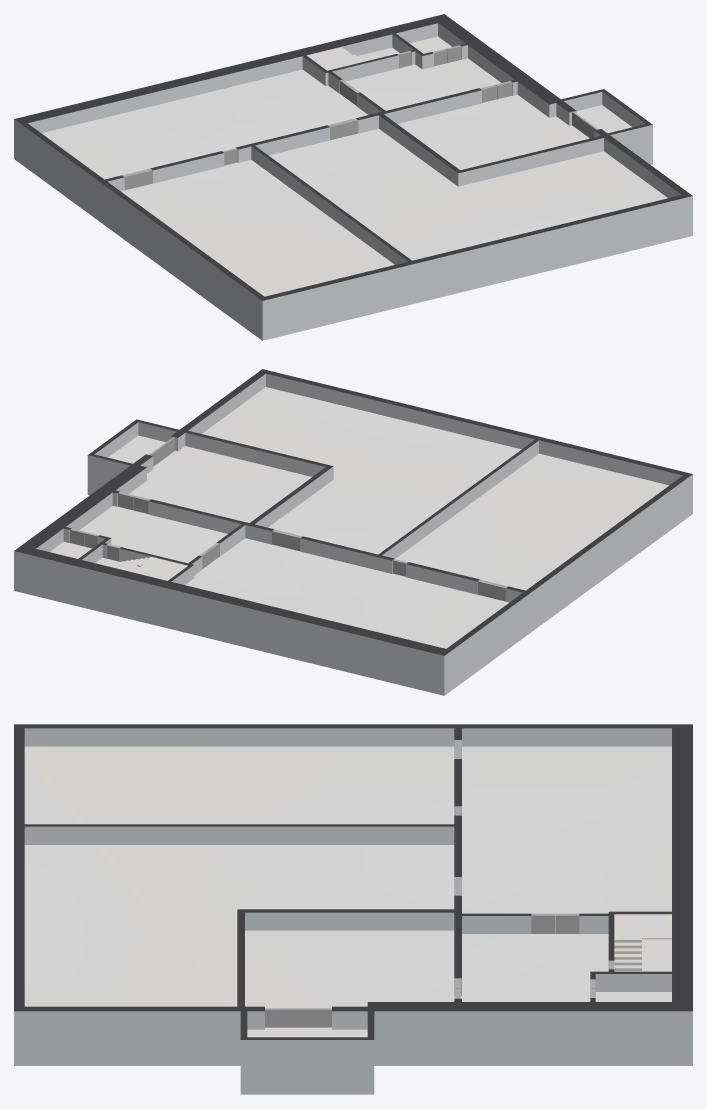
3 views of the same model, one above another, from view 1: azimuth 30°, elevation 25°; view 2: azimuth 150°, elevation 25°; view 3: azimuth 270°, elevation 25° (orthographic). The views are drawn at different scales.
Parts seen in each view (by area): view 1: Peni_B_Bottom (1), Peni_B_Wall (1); view 2: Peni_B_Bottom (1), Peni_B_Wall (1); view 3: Peni_B_Bottom (1), Peni_B_Wall (1).
Boxes of the visible parts, box(x1,y1,x2,y2) form: Peni_B_Bottom (1): box(14, 36, 692, 340); Peni_B_Wall (1): box(14, 14, 692, 314); Peni_B_Bottom (1): box(14, 387, 692, 695); Peni_B_Wall (1): box(14, 369, 692, 669); Peni_B_Bottom (1): box(14, 746, 692, 1094); Peni_B_Wall (1): box(14, 724, 692, 1058).
Bounding box in the file's own units: 5.59 × 0.45 × 5.08.
2 materials, 2 textured.
